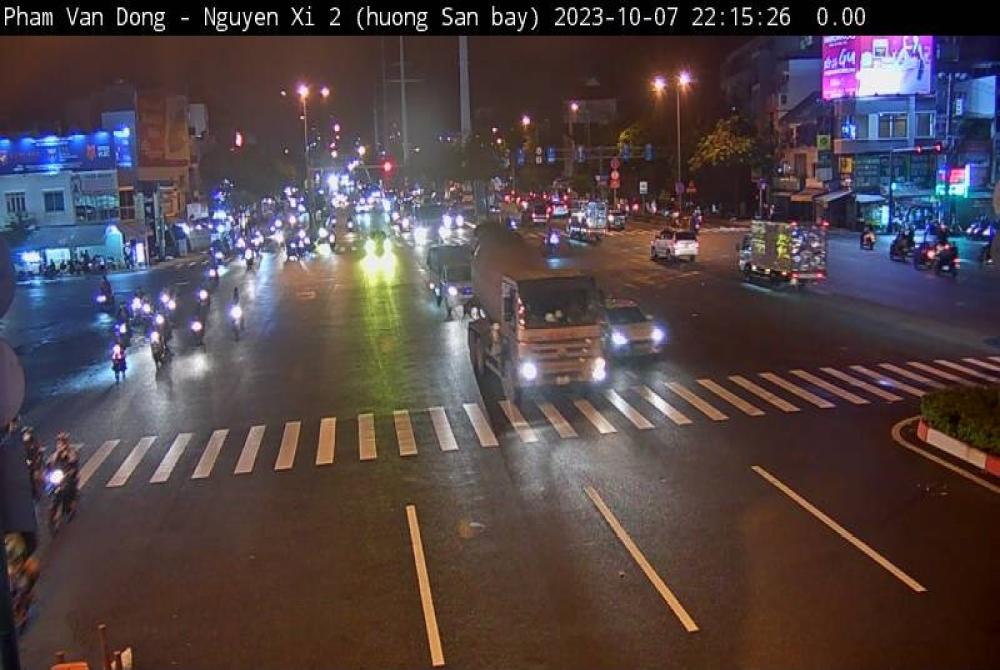truck: (460, 208, 624, 424), (730, 208, 836, 304)
